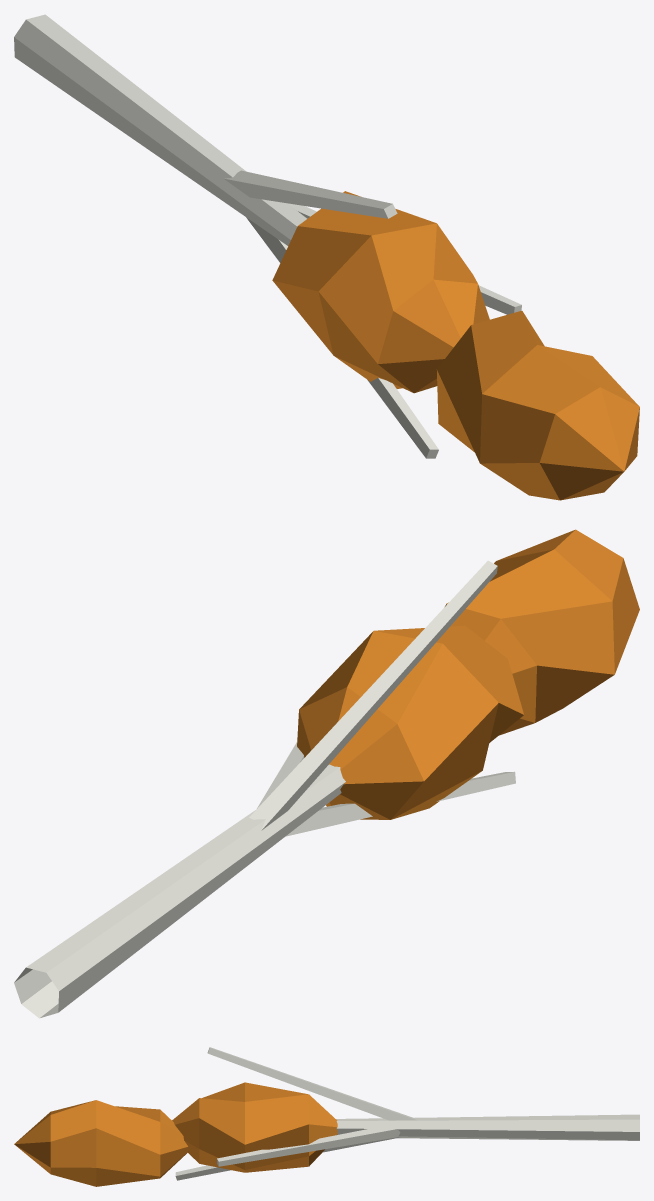
Rendered from dying_1.glb.
3 views of the same model, one above another, from view 1: azimuth 30°, elevation 25°; view 2: azimuth 150°, elevation 25°; view 3: azimuth 270°, elevation 25° (orthographic). The views are drawn at different scales.
Visible parts, largest first — view 1: tree_03_dying_1; view 2: tree_03_dying_1; view 3: tree_03_dying_1.
Part boxes in pixels (box(x1,y1,x2,y2)): tree_03_dying_1: box(14, 14, 639, 500); tree_03_dying_1: box(14, 529, 639, 1018); tree_03_dying_1: box(14, 1047, 639, 1186).
Bounding box in the file's own units: 6.22 × 7.81 × 34.24.
